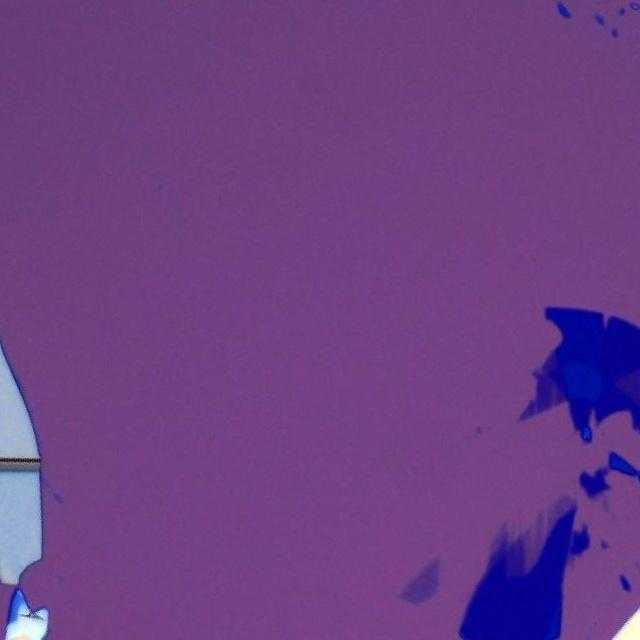monolayer-eWW4: (522, 492, 576, 574), (398, 554, 443, 606)
